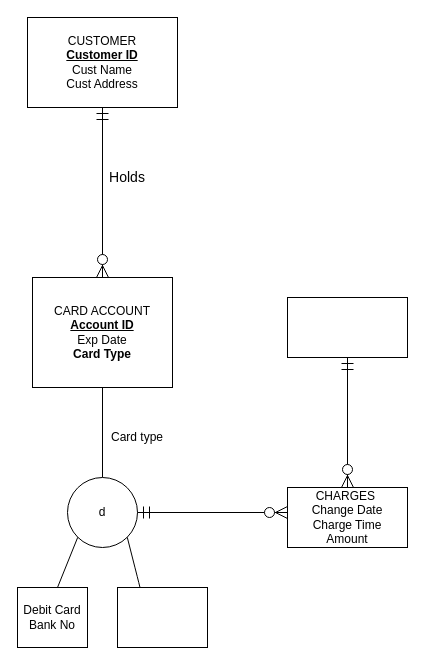
Image size: 425x665. Some labels were removed from this diagram. Here are the shapes that lost their labels. From the top down, the centre of each, then its label:
the point at 347,327: MERCHANT Merch ID Merch Addr
the point at 162,617: Credit Card Cur Bal
